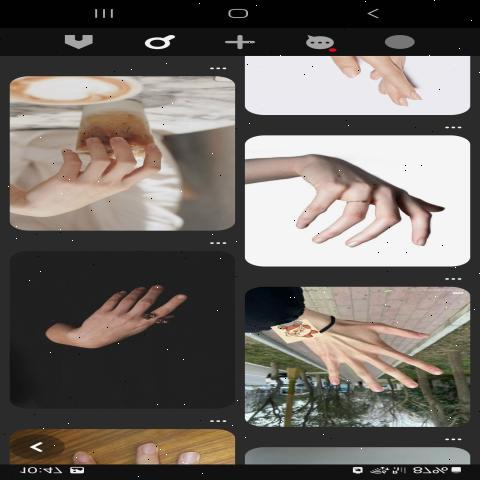Hands: (277, 146, 458, 264), (282, 297, 457, 413), (12, 120, 181, 224), (38, 282, 223, 376)
